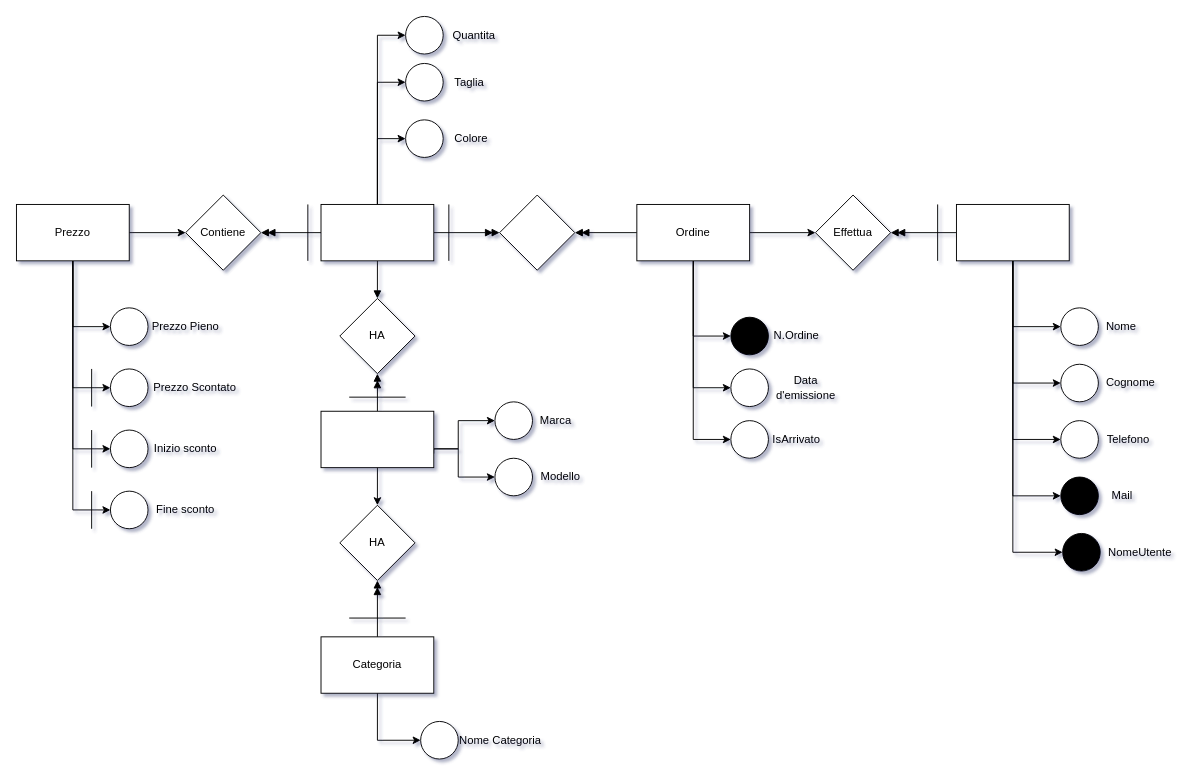
The diagram is 1204 pixels wide and 781 high, and some of its shapes have lost their labels. Here are the shapes that lost their labels. From the top down, the centre of each, then its label:
point (377, 232): Variazione
point (537, 232): Interessa
point (1012, 232): Utente
point (377, 439): Prodotto
